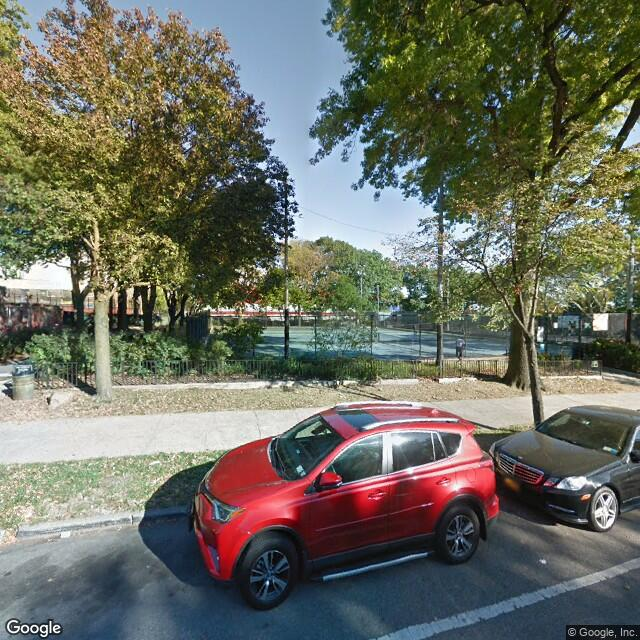litter: (536, 556, 549, 565), (58, 532, 71, 541), (454, 384, 463, 391), (44, 575, 51, 580)
